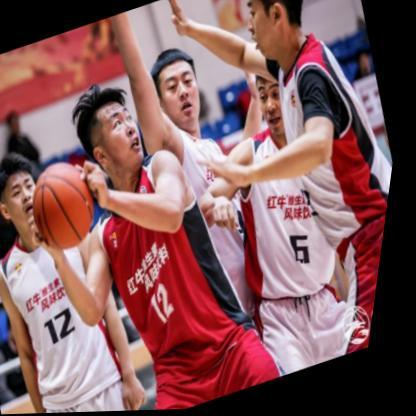basketball: (21, 152, 118, 259)
